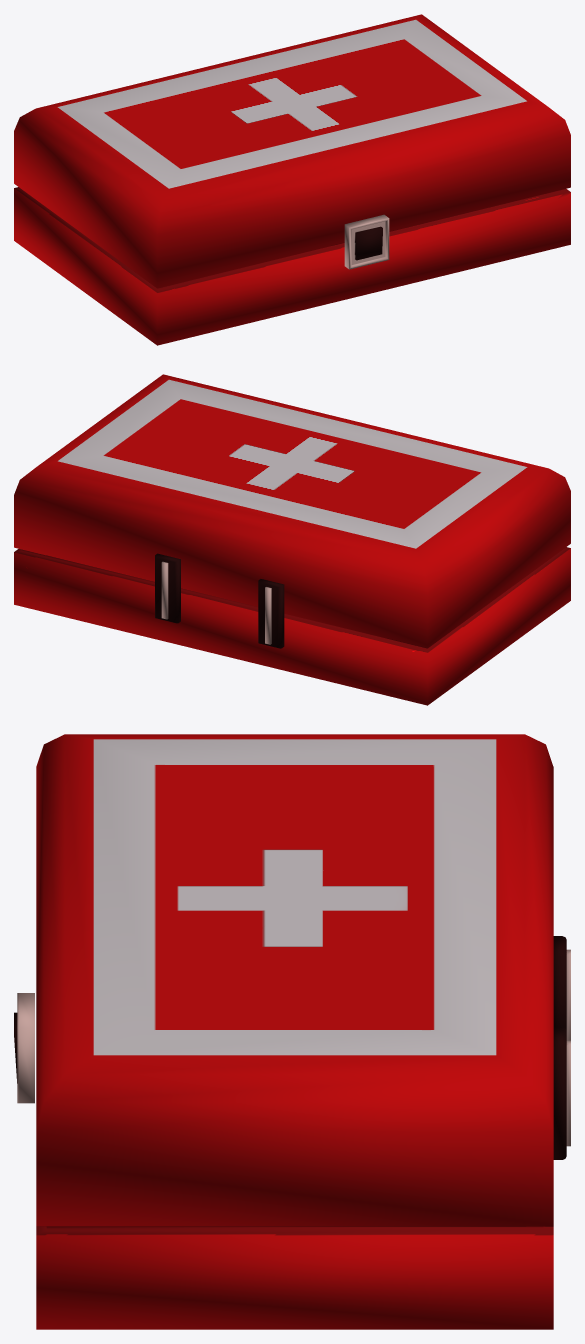
File: Medkit.fbx
3 views of the same model, one above another, from view 1: azimuth 30°, elevation 25°; view 2: azimuth 150°, elevation 25°; view 3: azimuth 270°, elevation 25° (orthographic). The views are drawn at different scales.
Parts seen in each view (by area): view 1: Medkit; view 2: Medkit; view 3: Medkit.
Boxes of the visible parts, box(x1,y1,x2,y2) form: Medkit: box(14, 14, 570, 345); Medkit: box(14, 374, 570, 705); Medkit: box(14, 734, 570, 1329).
Size of the model in its own units: 25 by 8 by 16.15.
